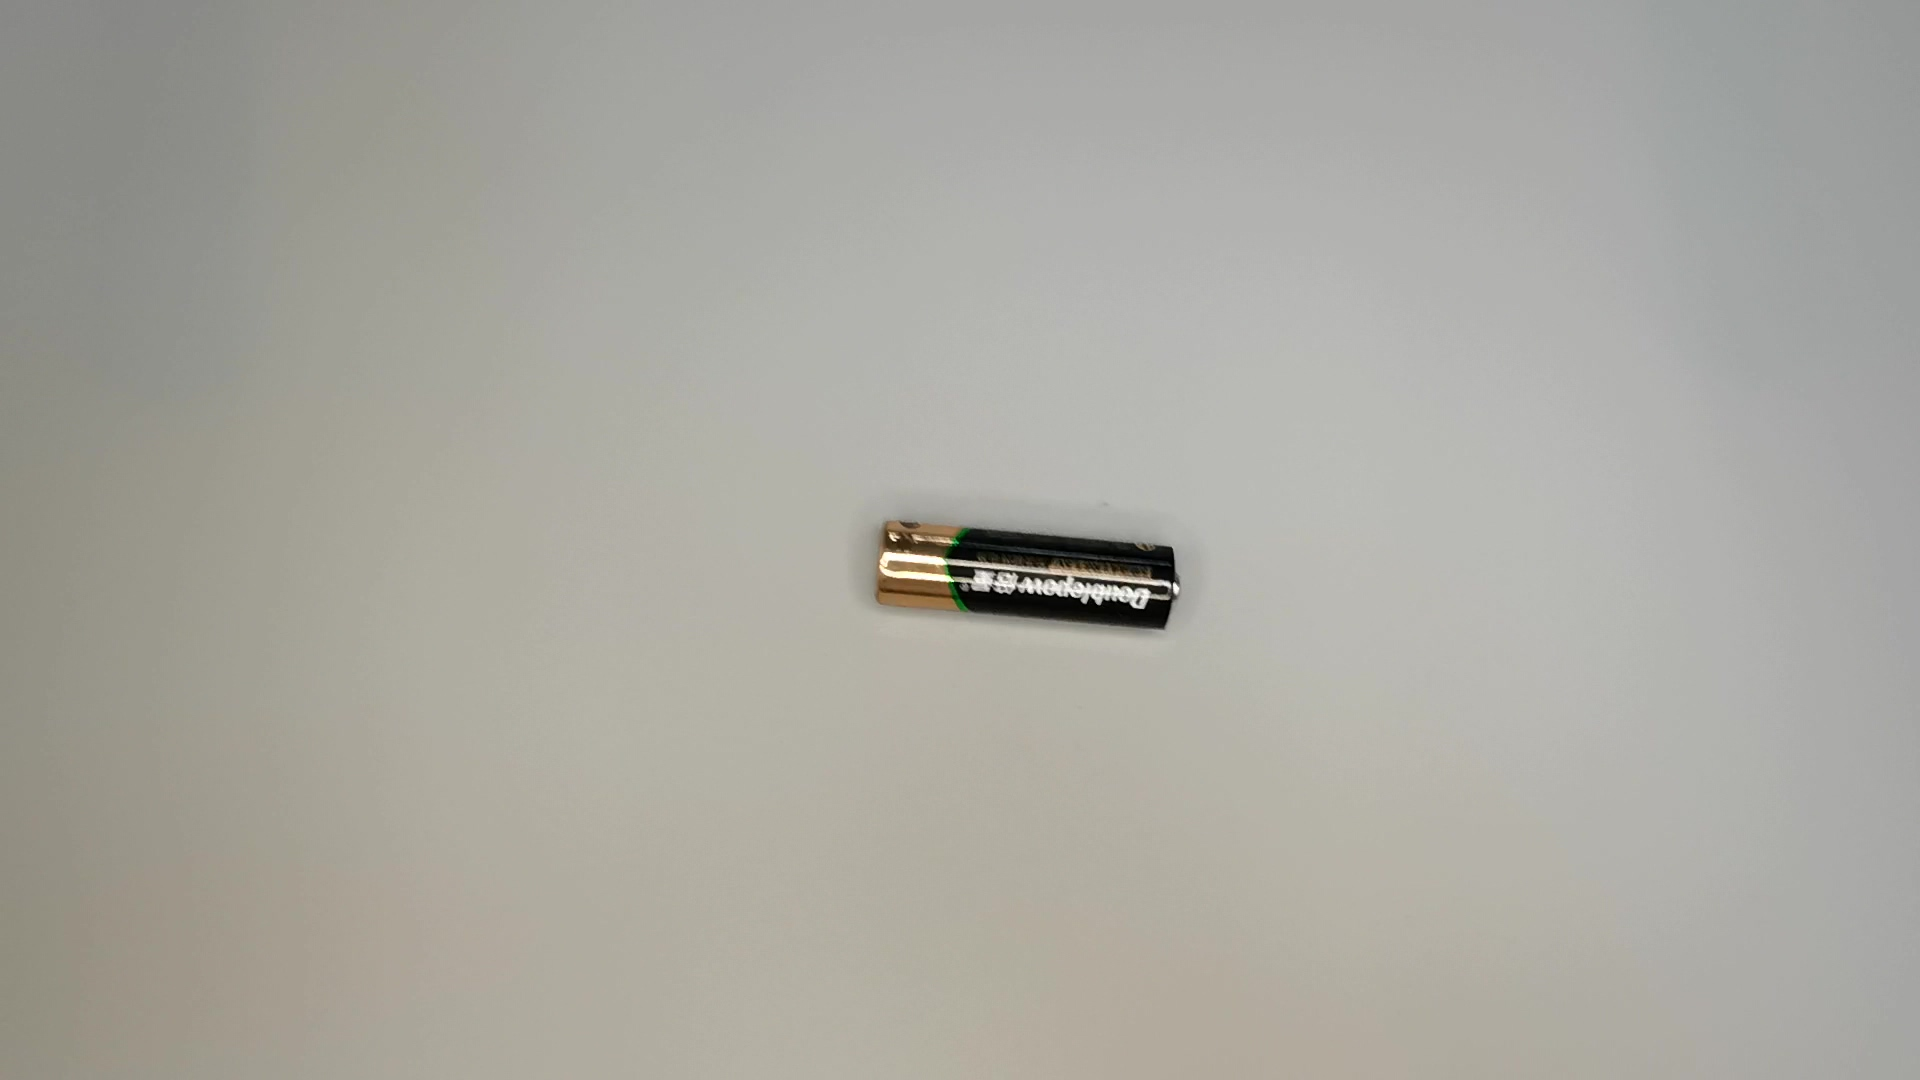battery: (866, 506, 1192, 637)
